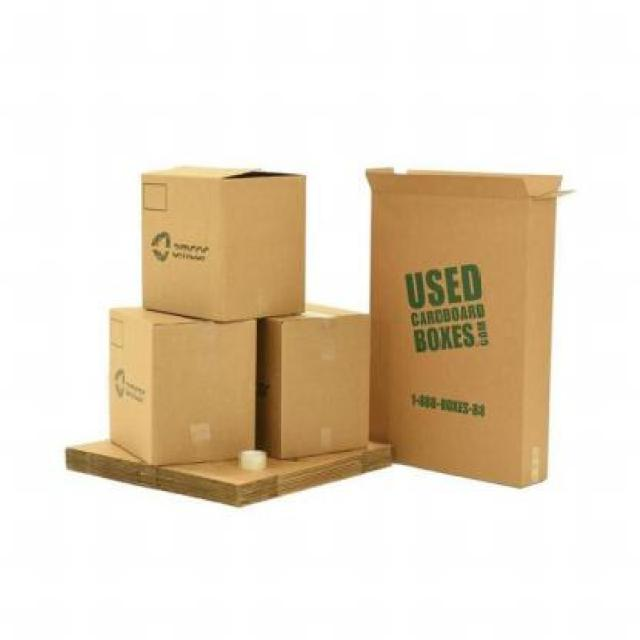box: (363, 145, 572, 498), (135, 163, 314, 336), (97, 299, 269, 479), (258, 302, 377, 464)
